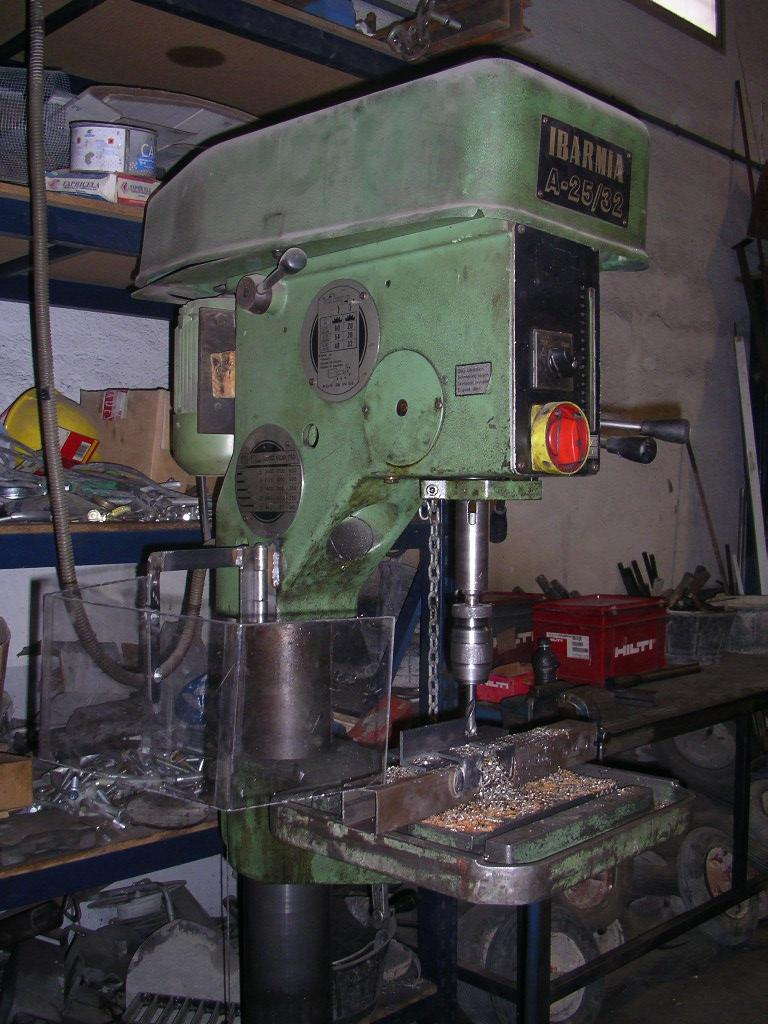falta_resguardo: (449, 487, 491, 742)
sin_senalizacion_riesgos: (379, 242, 504, 345)
